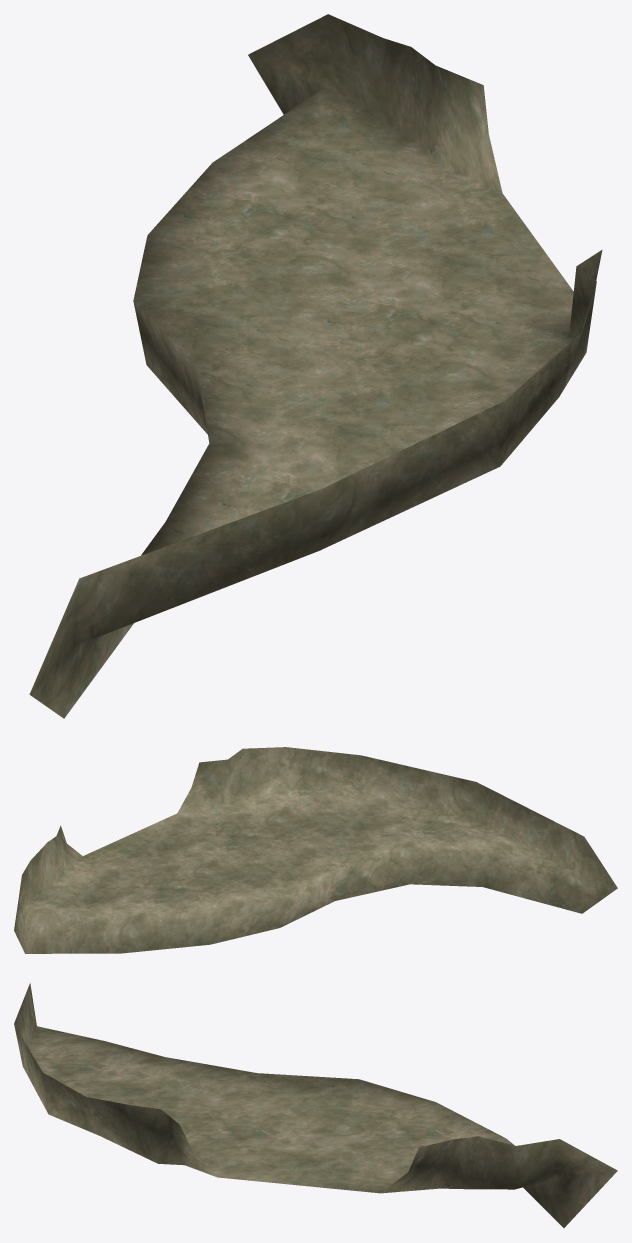
The model's file is OVERHILL_A_01_LINE186.fbx.
3 views of the same model, one above another, from view 1: azimuth 30°, elevation 25°; view 2: azimuth 150°, elevation 25°; view 3: azimuth 270°, elevation 25° (orthographic). The views are drawn at different scales.
Visible parts, largest first — view 1: OVERHILL_A_01_LINE186; view 2: OVERHILL_A_01_LINE186; view 3: OVERHILL_A_01_LINE186.
Part boxes in pixels (box(x1,y1,x2,y2)): OVERHILL_A_01_LINE186: box(29, 14, 602, 718); OVERHILL_A_01_LINE186: box(14, 747, 617, 953); OVERHILL_A_01_LINE186: box(14, 983, 617, 1227).
Bounding box in the file's own units: 62933 × 18107 × 69424.
Materials: 1 (1 with a texture image).
